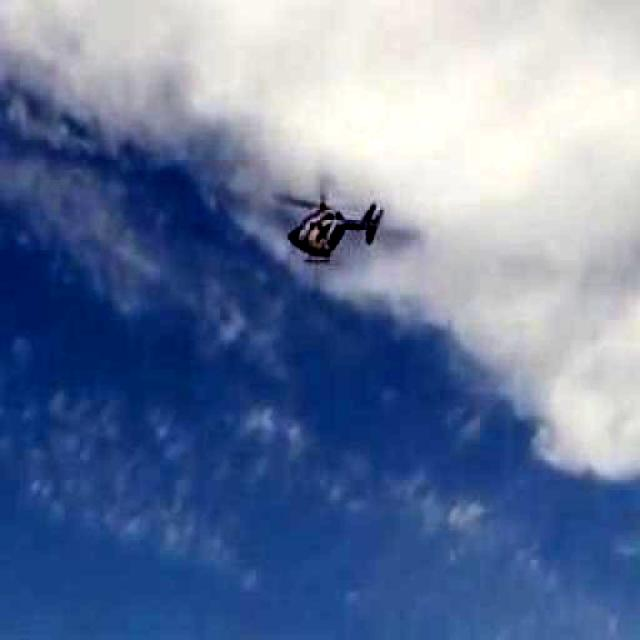drone: (254, 142, 404, 300)
